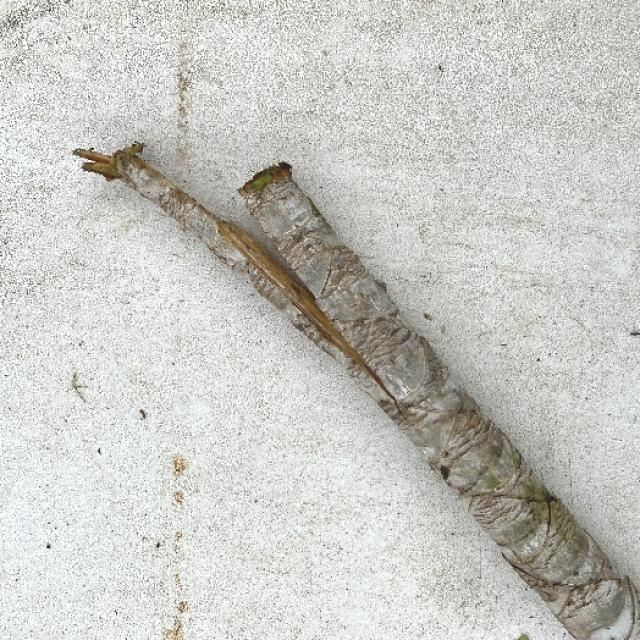organic: (404, 394, 633, 640), (232, 165, 445, 412), (113, 165, 345, 253)
